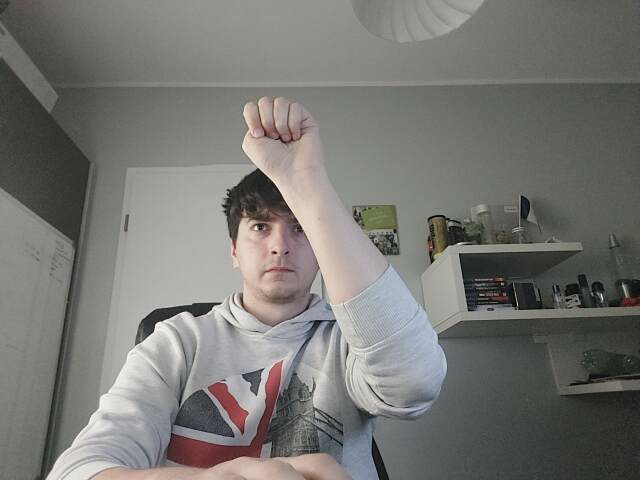yes: (239, 94, 323, 171)
